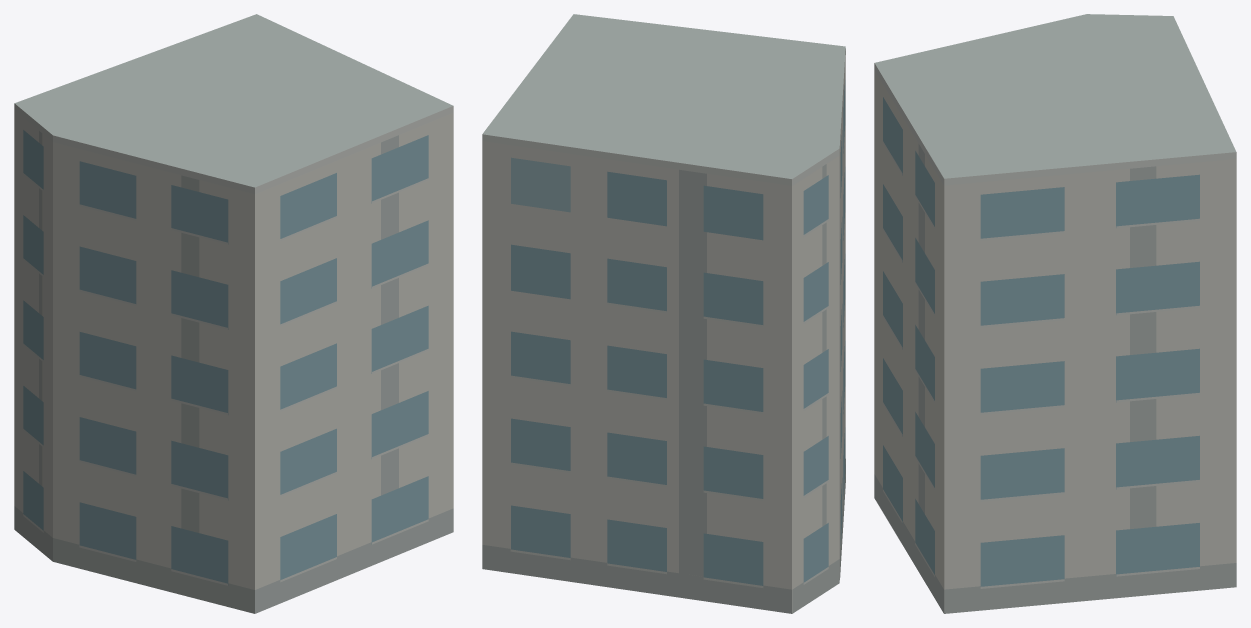
File: survey-upis-32800931.glb
The picture shows the model from 3 angles, left to right: view 1: azimuth 30°, elevation 25°; view 2: azimuth 150°, elevation 25°; view 3: azimuth 270°, elevation 25°; orthographic projection. The views are drawn at different scales.
Visible parts, largest first — view 1: survey-upis-32800931.tmp; view 2: survey-upis-32800931.tmp; view 3: survey-upis-32800931.tmp.
Boxes of the visible parts, bbox=[...] form: survey-upis-32800931.tmp: bbox=[14, 14, 453, 613]; survey-upis-32800931.tmp: bbox=[482, 14, 845, 613]; survey-upis-32800931.tmp: bbox=[874, 14, 1236, 613].
Bounding box in the file's own units: 12.39 × 15.25 × 11.51.
